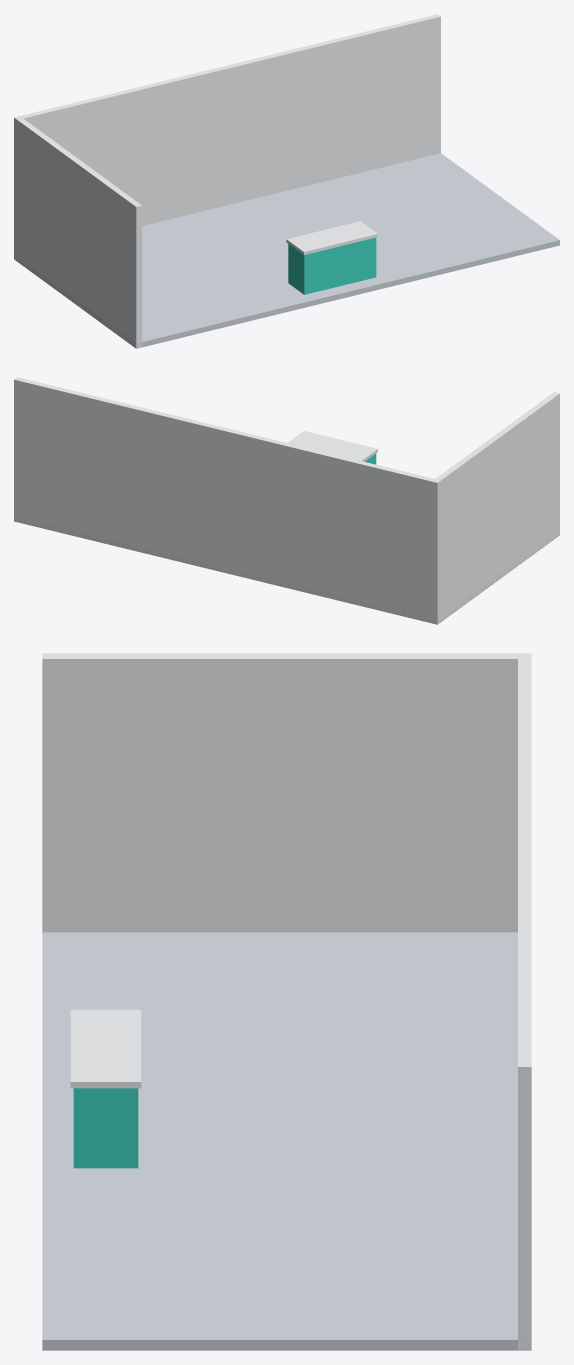
The picture shows the model from 3 angles, top to bottom: view 1: azimuth 30°, elevation 25°; view 2: azimuth 150°, elevation 25°; view 3: azimuth 270°, elevation 25°; orthographic projection. The views are drawn at different scales.
Visible parts, largest first — view 1: Exhibition Booth Concept; view 2: Exhibition Booth Concept; view 3: Exhibition Booth Concept.
Part boxes in pixels (x1=…): Exhibition Booth Concept: x1=14, y1=14, x2=559, y2=348; Exhibition Booth Concept: x1=14, y1=377, x2=559, y2=624; Exhibition Booth Concept: x1=42, y1=653, x2=531, y2=1350.
Size of the model in its own units: 10 by 3.2 by 5.
